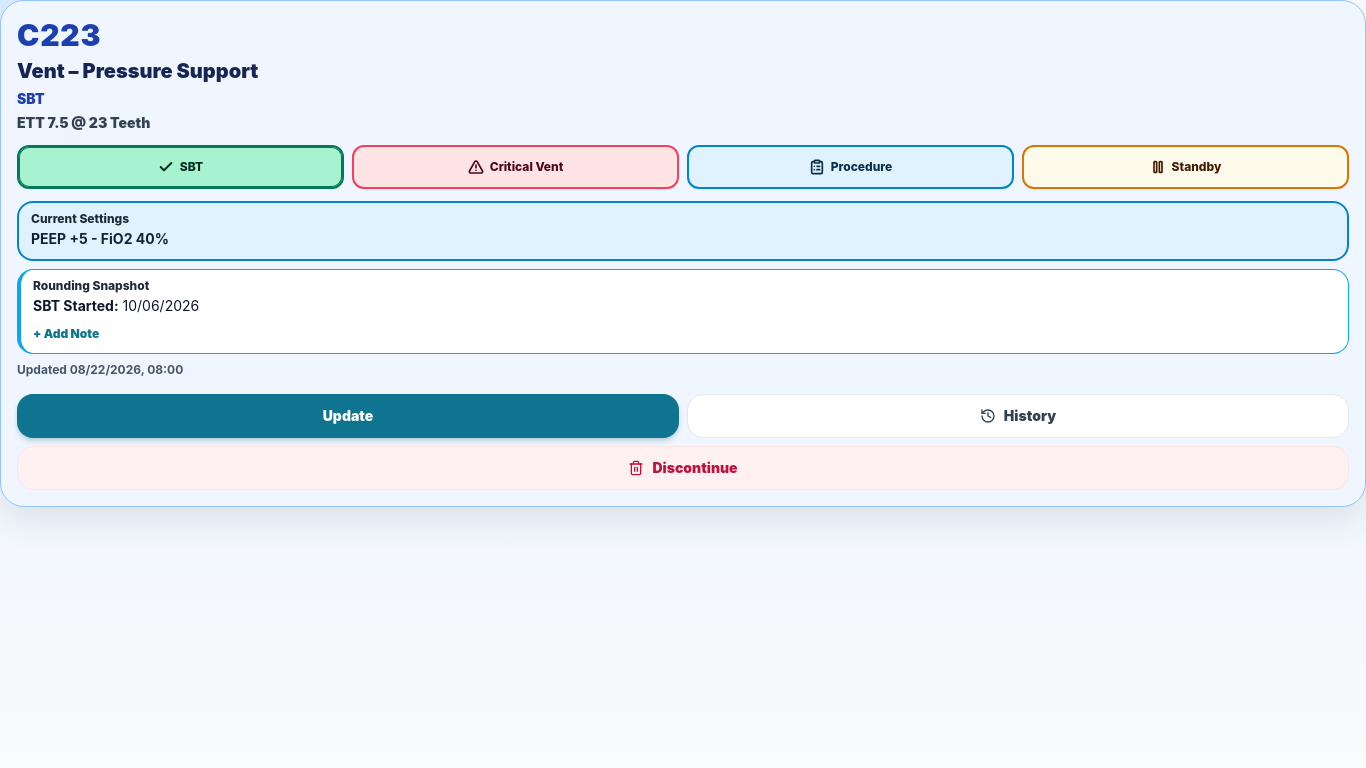
it: IcuPatientCard Vent actions › retains a passed SBT on continuous Pressure Support and prevents repeat Pass
Click the button "SBT" at (180,167), box [17, 145, 344, 189]
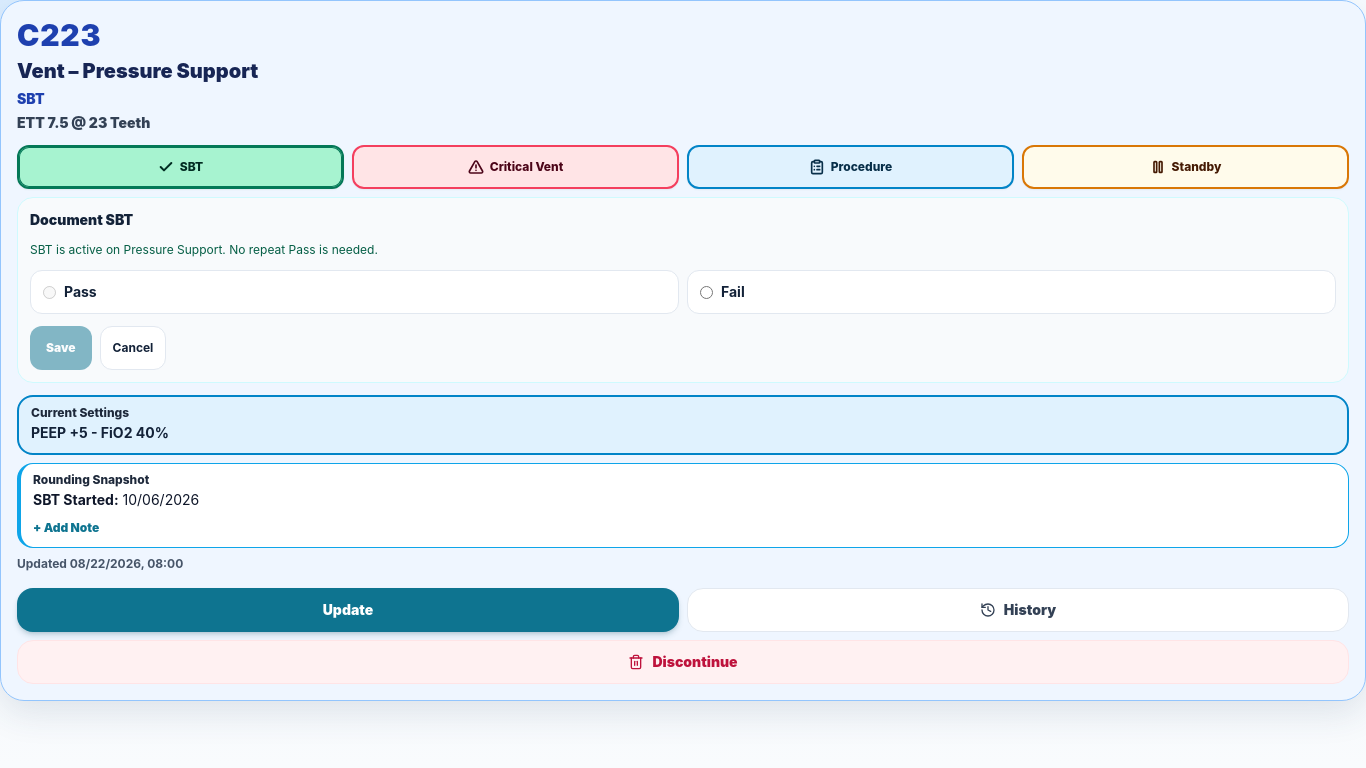
Now the radio button labelled "Pass" is disabled, box [43, 286, 56, 298]
Now the radio button labelled "Fail" is enabled, box [700, 286, 713, 298]
